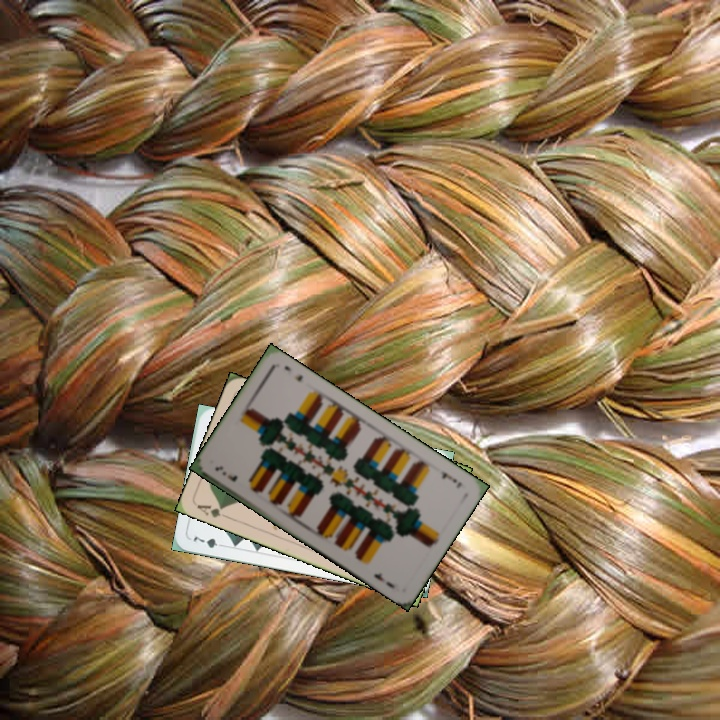E7: (436, 467, 464, 491), (211, 462, 240, 484)
G7: (189, 532, 228, 551)
GA: (193, 500, 232, 521)
